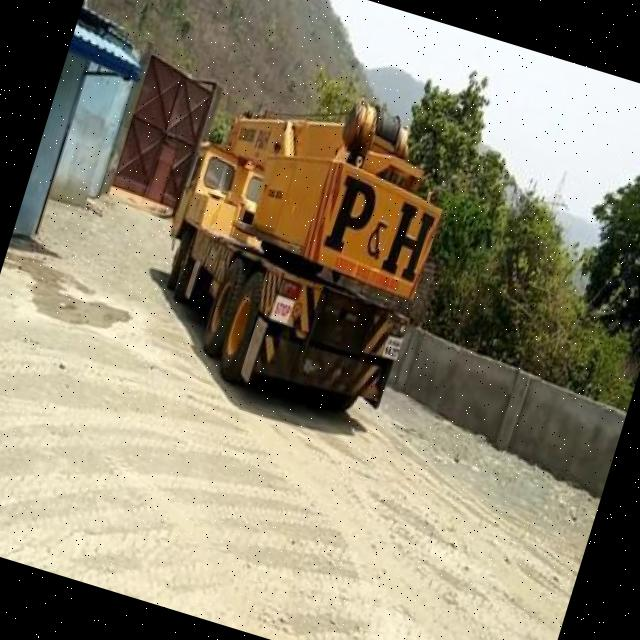Mobile Crane: (133, 61, 464, 426)
